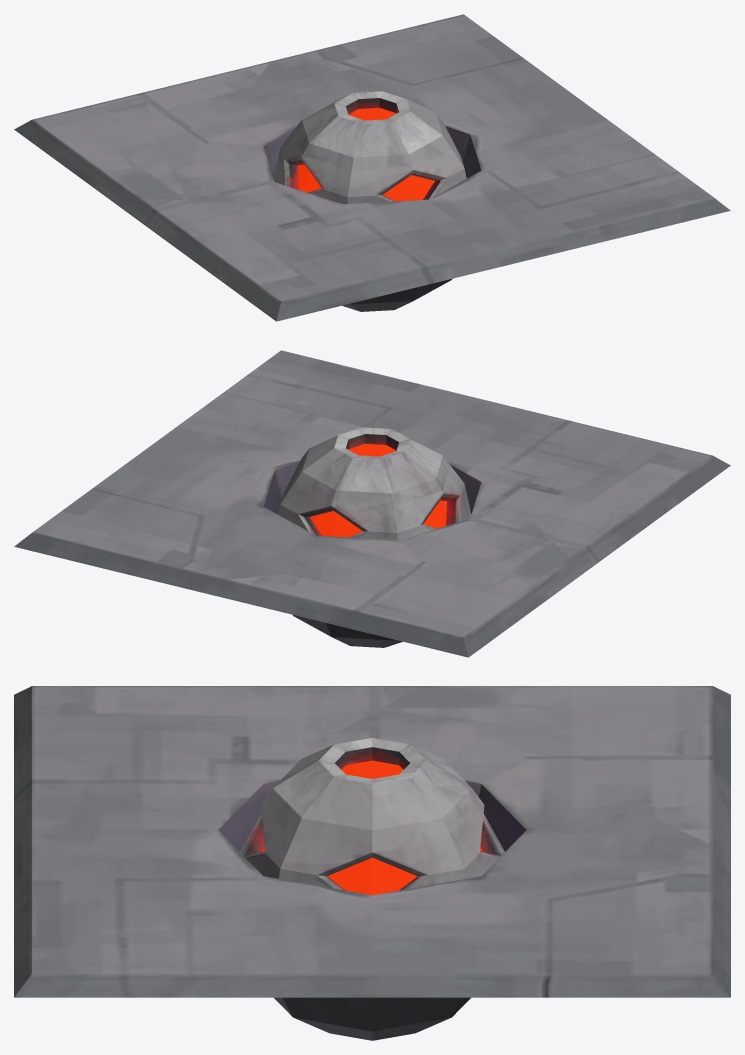
The model's file is tile_mine.fbx.
The picture shows the model from 3 angles, top to bottom: view 1: azimuth 30°, elevation 25°; view 2: azimuth 150°, elevation 25°; view 3: azimuth 270°, elevation 25°; orthographic projection. The views are drawn at different scales.
Visible parts, largest first — view 1: tile_mine_base, mine, mine_light; view 2: tile_mine_base, mine, mine_light; view 3: tile_mine_base, mine, mine_light.
Boxes of the visible parts, left/top/right/bottom form: tile_mine_base: left=14, top=14, right=730, bottom=321; mine: left=273, top=91, right=466, bottom=204; mine_light: left=298, top=107, right=434, bottom=201; tile_mine_base: left=14, top=350, right=730, bottom=657; mine: left=278, top=427, right=471, bottom=540; mine_light: left=310, top=443, right=446, bottom=537; tile_mine_base: left=14, top=686, right=730, bottom=1040; mine: left=240, top=738, right=504, bottom=890; mine_light: left=262, top=760, right=482, bottom=895.
Bounding box in the file's own units: 0.02 × 0.00817 × 0.02.
